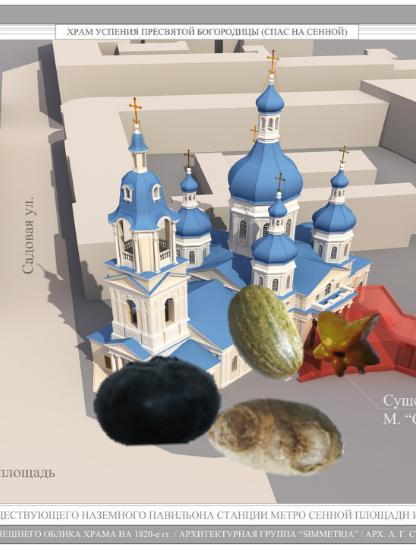Blueberry: (93, 336, 222, 465)
Carambula: (311, 305, 386, 380)
Ginger: (206, 367, 346, 507)
Melon: (212, 283, 316, 387)
